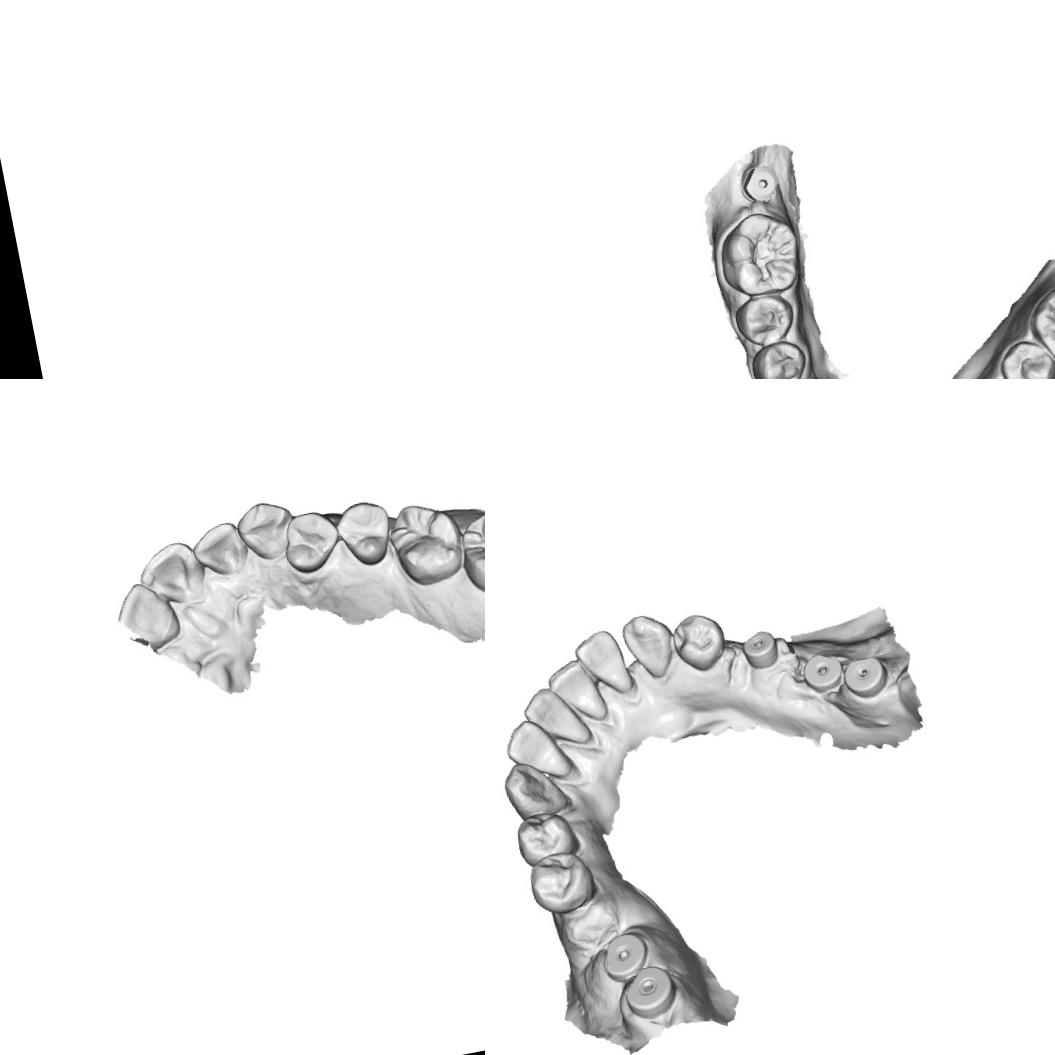canine: (498, 753, 572, 824), (230, 495, 300, 566), (616, 609, 679, 684)
implant: (618, 960, 681, 1024), (597, 928, 654, 984), (838, 652, 892, 702), (732, 157, 784, 206), (798, 649, 846, 697), (737, 625, 782, 673)
incisor: (518, 678, 594, 755), (132, 536, 210, 610), (109, 575, 183, 653), (570, 624, 636, 700), (543, 653, 609, 728), (499, 713, 562, 776), (188, 518, 252, 580)
molar: (710, 206, 808, 304), (382, 494, 468, 592), (1021, 270, 1055, 371), (453, 504, 485, 600)
premolar: (523, 845, 600, 919), (332, 495, 398, 572), (276, 506, 345, 578), (510, 805, 584, 868), (666, 607, 732, 676), (732, 288, 800, 348), (745, 336, 815, 379), (995, 333, 1055, 379)
